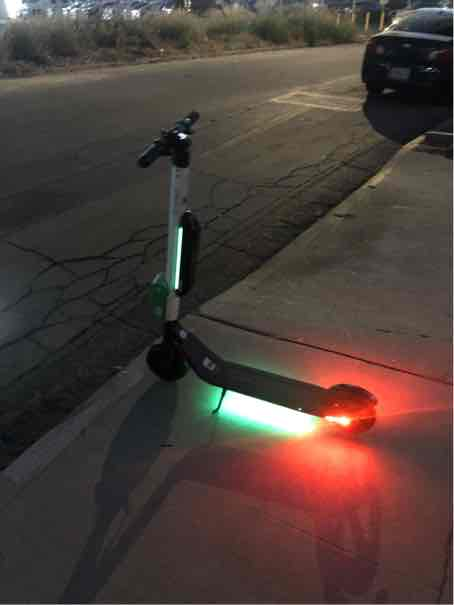scooter: (120, 100, 389, 454)
